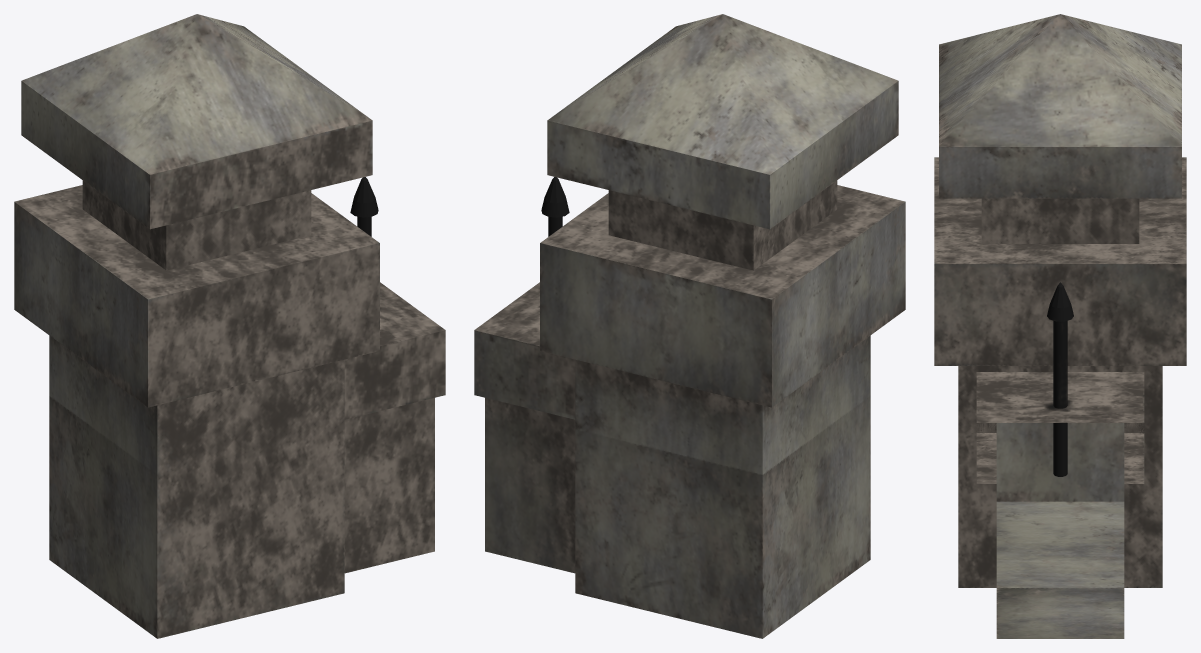
File: Wall3.fbx
3 views of the same model, side by side, from view 1: azimuth 30°, elevation 25°; view 2: azimuth 150°, elevation 25°; view 3: azimuth 270°, elevation 25° (orthographic). The views are drawn at different scales.
Parts seen in each view (by area): view 1: Box003; view 2: Box003; view 3: Box003.
Part boxes in pixels (x1=…): Box003: x1=14, y1=14, x2=445, y2=638; Box003: x1=474, y1=14, x2=905, y2=638; Box003: x1=934, y1=14, x2=1186, y2=638.
Bounding box in the file's own units: 30.63 × 51.41 × 22.17.
